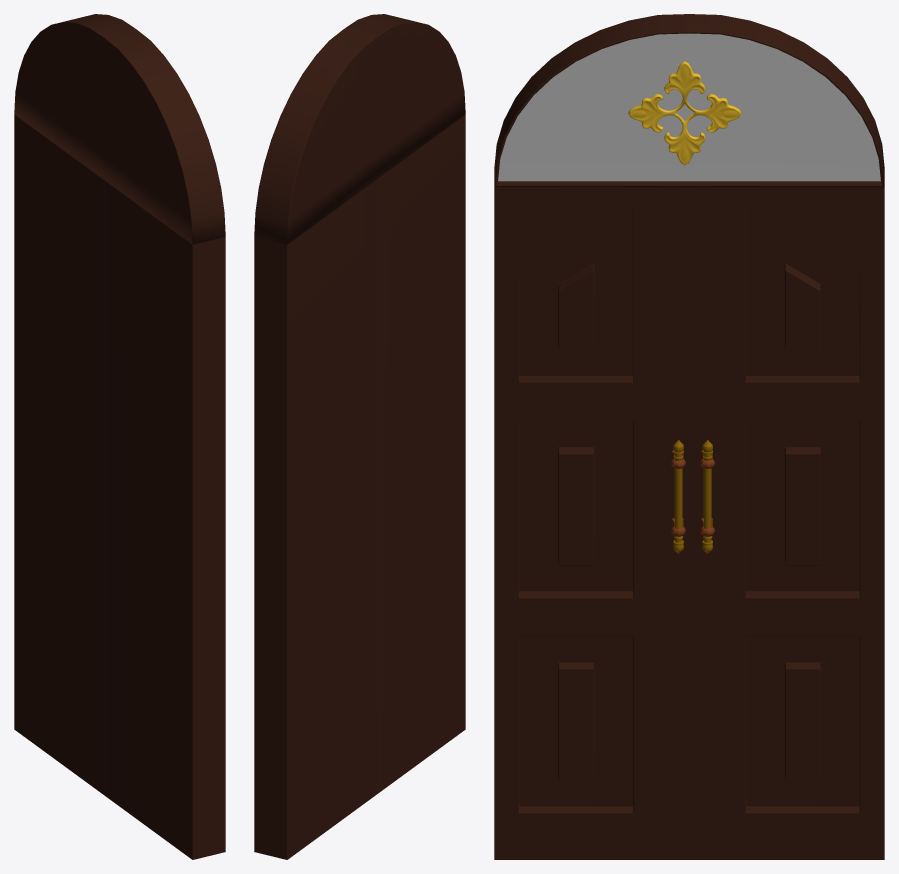
The model's file is FM_White_H_Door_001.fbx.
The picture shows the model from 3 angles, left to right: view 1: azimuth 30°, elevation 25°; view 2: azimuth 150°, elevation 25°; view 3: azimuth 270°, elevation 25°; orthographic projection. The views are drawn at different scales.
Visible parts, largest first — view 1: FM_White_H_Door_Left, FM_White_H_Door_Right, FM_White_H_Door_00; view 2: FM_White_H_Door_Right, FM_White_H_Door_Left, FM_White_H_Door_00; view 3: FM_White_H_Door_Right, FM_White_H_Door_Left, FM_White_H_Door_00.
Part boxes in pixels (x1,y1,x2,y2): FM_White_H_Door_Left: [103, 180, 225, 859]; FM_White_H_Door_Right: [14, 114, 103, 794]; FM_White_H_Door_00: [14, 14, 225, 244]; FM_White_H_Door_Right: [254, 180, 376, 859]; FM_White_H_Door_Left: [376, 114, 465, 794]; FM_White_H_Door_00: [254, 14, 465, 244]; FM_White_H_Door_Right: [689, 187, 884, 859]; FM_White_H_Door_Left: [494, 187, 689, 859]; FM_White_H_Door_00: [494, 14, 884, 187].
Bounding box in the file's own units: 0.212 × 2.91 × 1.24.
